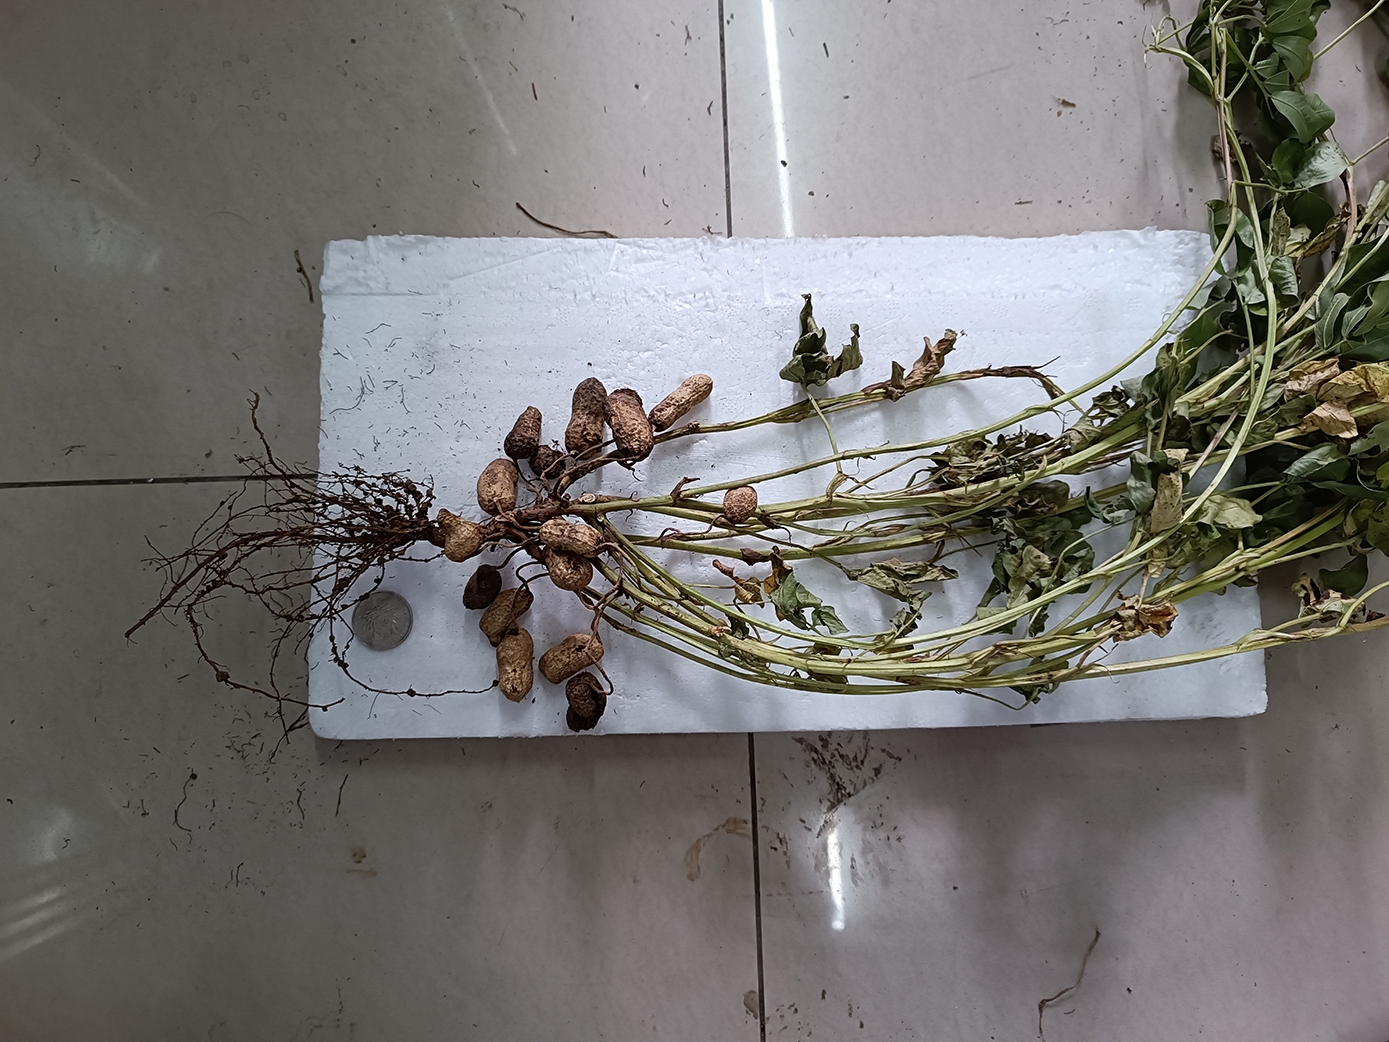h: (649, 374, 713, 433), (539, 632, 604, 684), (478, 587, 534, 646), (496, 627, 535, 702), (436, 507, 484, 563), (540, 518, 605, 558), (542, 544, 594, 591), (477, 458, 518, 516), (722, 486, 759, 524)
l: (605, 387, 653, 462), (565, 377, 606, 458), (564, 671, 607, 733), (503, 405, 542, 459), (463, 563, 502, 610), (529, 443, 565, 478)
